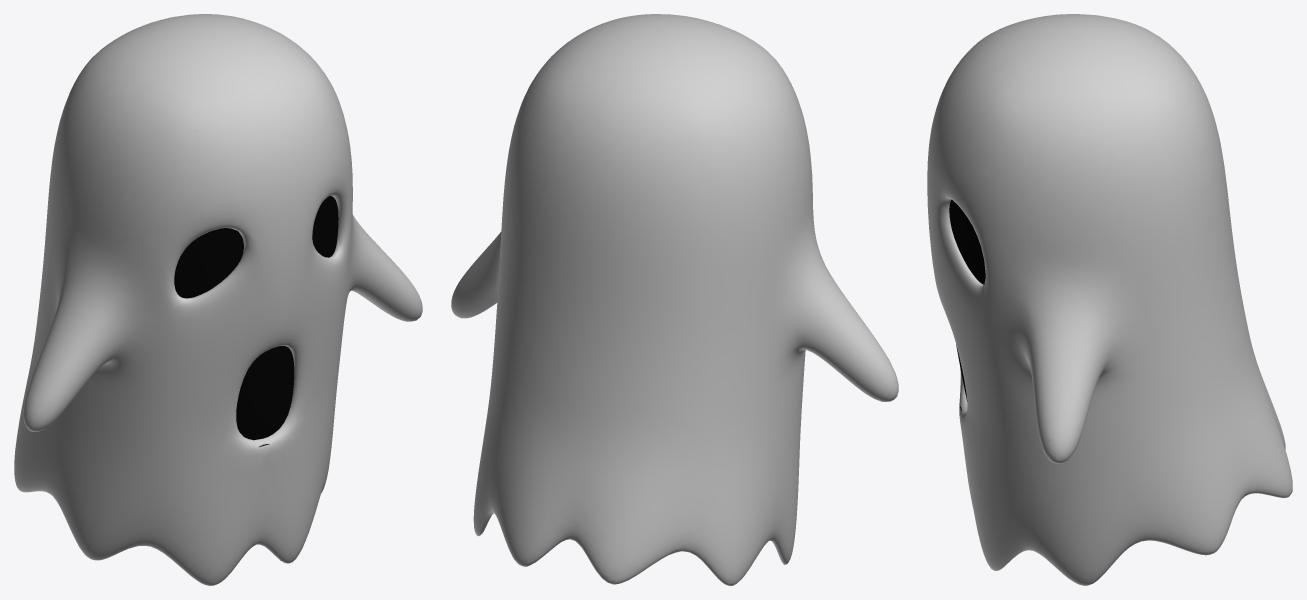
Rendered from ghost.obj.
3 views of the same model, side by side, from view 1: azimuth 30°, elevation 25°; view 2: azimuth 150°, elevation 25°; view 3: azimuth 270°, elevation 25° (orthographic). The views are drawn at different scales.
Visible parts, largest first — view 1: ghost_simplify; view 2: ghost_simplify; view 3: ghost_simplify.
Part boxes in pixels (<box>): ghost_simplify: <box>14,14,422,585</box>; ghost_simplify: <box>451,14,898,585</box>; ghost_simplify: <box>927,14,1292,585</box>.
Size of the model in its own units: 0.8348 by 0.9891 by 0.6353.
Materials: 1 (1 with a texture image).
